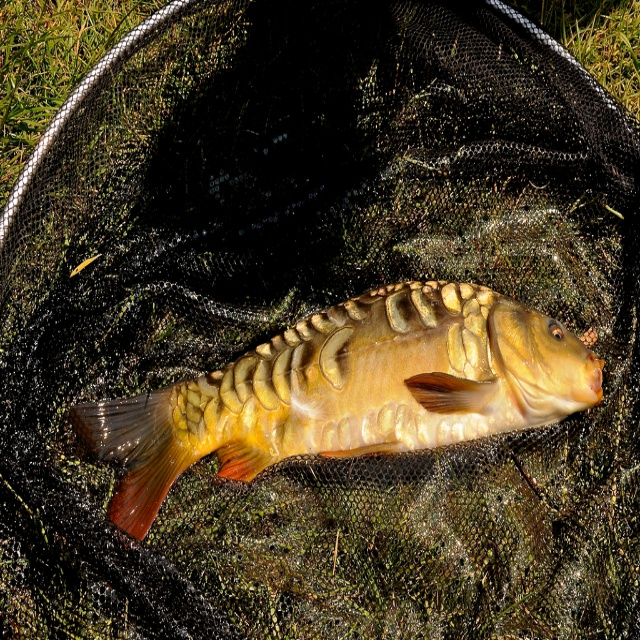Fish: (68, 282, 607, 542)
